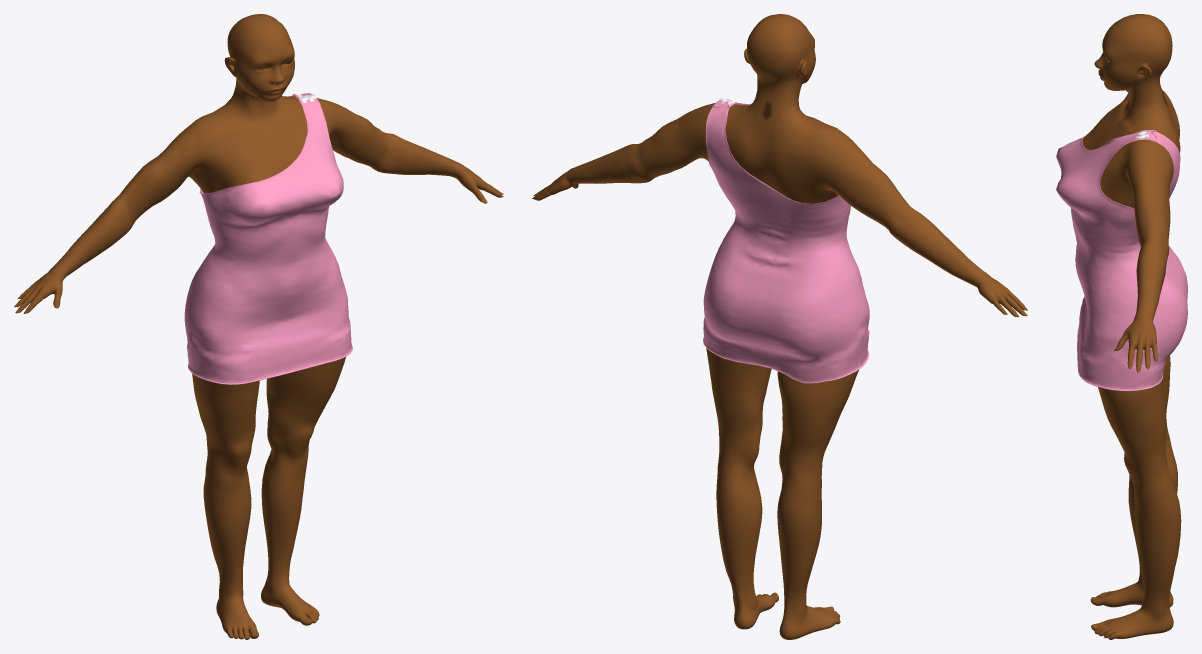
The model's file is dress1.glb.
The picture shows the model from 3 angles, left to right: view 1: azimuth 30°, elevation 25°; view 2: azimuth 150°, elevation 25°; view 3: azimuth 270°, elevation 25°; orthographic projection.
Visible parts, largest first — view 1: Body, WhiteDress; view 2: Body, WhiteDress; view 3: Body, WhiteDress.
Part boxes in pixels (x1,y1,x2,y2): Body: (16,14,503,639); WhiteDress: (184,93,352,384); Body: (533,14,1024,639); WhiteDress: (703,98,869,383); Body: (1082,14,1181,639); WhiteDress: (1056,130,1187,391).
Size of the model in its own units: 1.58 by 1.85 by 0.3678.
